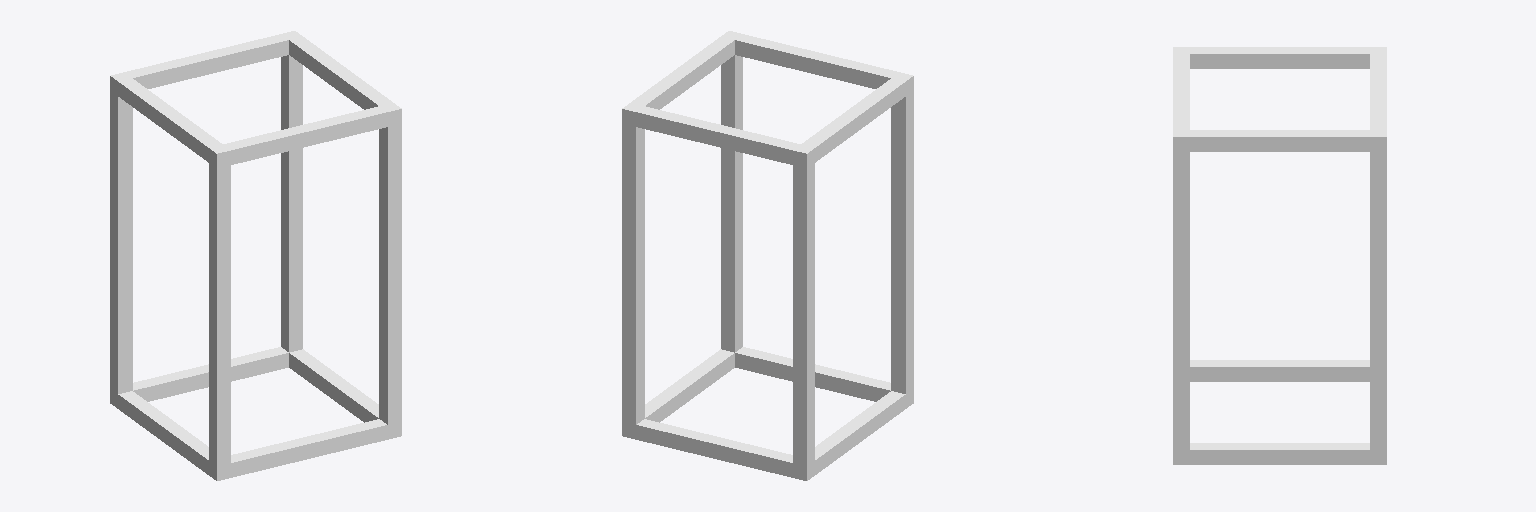
The model's file is glass_box.obj.
3 views of the same model, side by side, from view 1: azimuth 30°, elevation 25°; view 2: azimuth 150°, elevation 25°; view 3: azimuth 270°, elevation 25° (orthographic).
Visible parts, largest first — view 1: object 1; view 2: object 1; view 3: object 1.
Boxes of the visible parts, x1=… form: object 1: x1=110, y1=31, x2=401, y2=480; object 1: x1=622, y1=31, x2=913, y2=480; object 1: x1=1173, y1=47, x2=1386, y2=464.
Size of the model in its own units: 1.3 by 2.2 by 1.3.